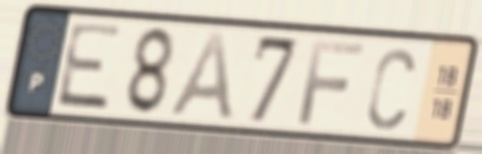7: (250, 31, 300, 126)
8: (123, 23, 179, 118)
A: (165, 27, 239, 124)
C: (364, 44, 419, 133)
E: (52, 19, 127, 114)
F: (295, 37, 368, 128)
